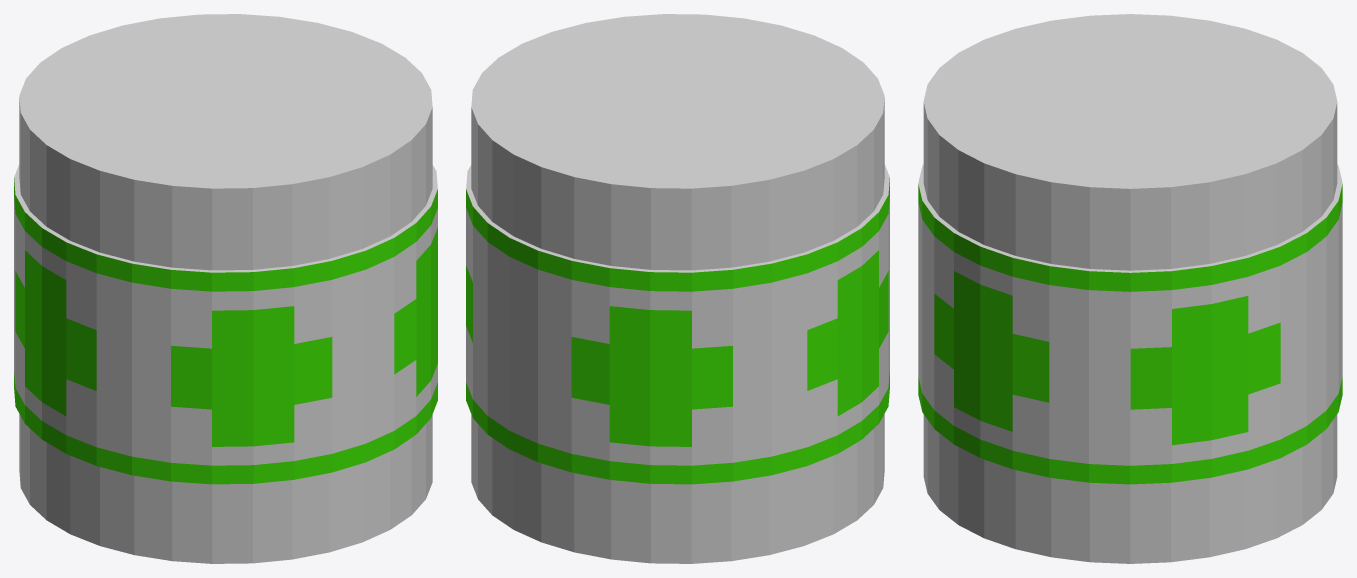
The model's file is Bandage.fbx.
3 renders of one model, left to right at view 1: azimuth 30°, elevation 25°; view 2: azimuth 150°, elevation 25°; view 3: azimuth 270°, elevation 25°, orthographic.
Visible parts, largest first — view 1: Bandage; view 2: Bandage; view 3: Bandage.
Boxes of the visible parts, x1,y1,x2,y2 form: Bandage: (14, 14, 437, 563); Bandage: (466, 14, 889, 563); Bandage: (918, 14, 1342, 563).
Size of the model in its own units: 45 by 43.88 by 45.
